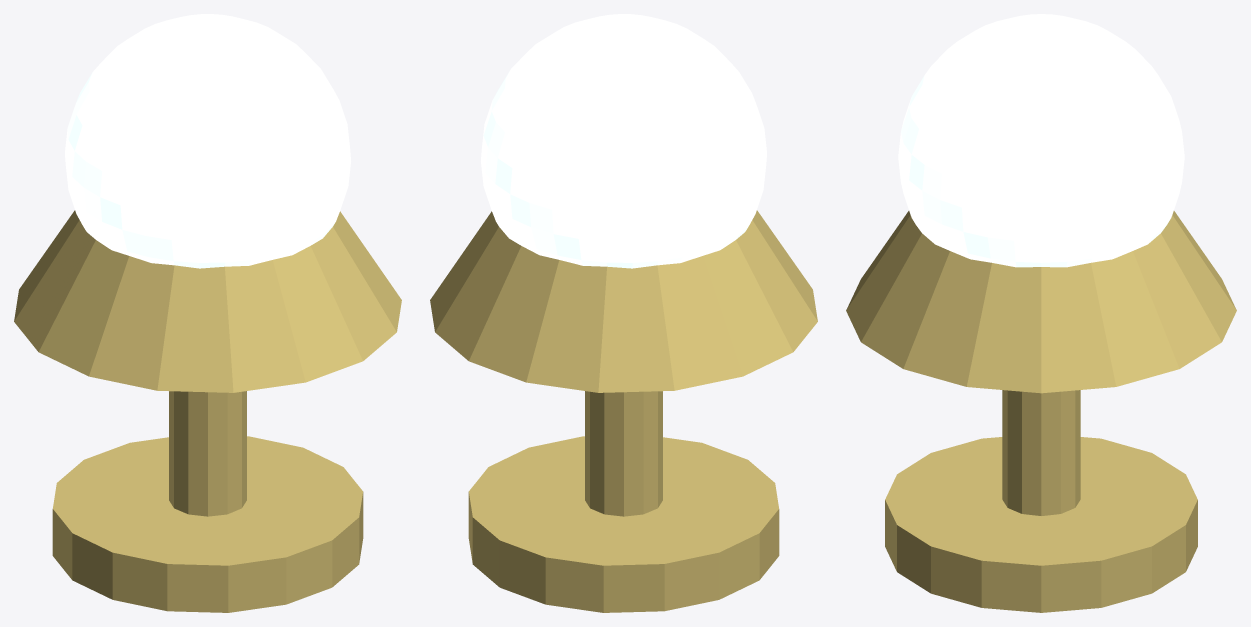
File: DreadMonarchChalice.glb
The picture shows the model from 3 angles, left to right: view 1: azimuth 30°, elevation 25°; view 2: azimuth 150°, elevation 25°; view 3: azimuth 270°, elevation 25°; orthographic projection.
Parts seen in each view (by area): view 1: DreadMonarchChalice; view 2: DreadMonarchChalice; view 3: DreadMonarchChalice.
Part boxes in pixels (left/top/right/bottom): DreadMonarchChalice: left=14, top=14, right=401, bottom=612; DreadMonarchChalice: left=430, top=14, right=817, bottom=612; DreadMonarchChalice: left=846, top=14, right=1236, bottom=612.
Size of the model in its own units: 1.5 by 2.2 by 1.5.
